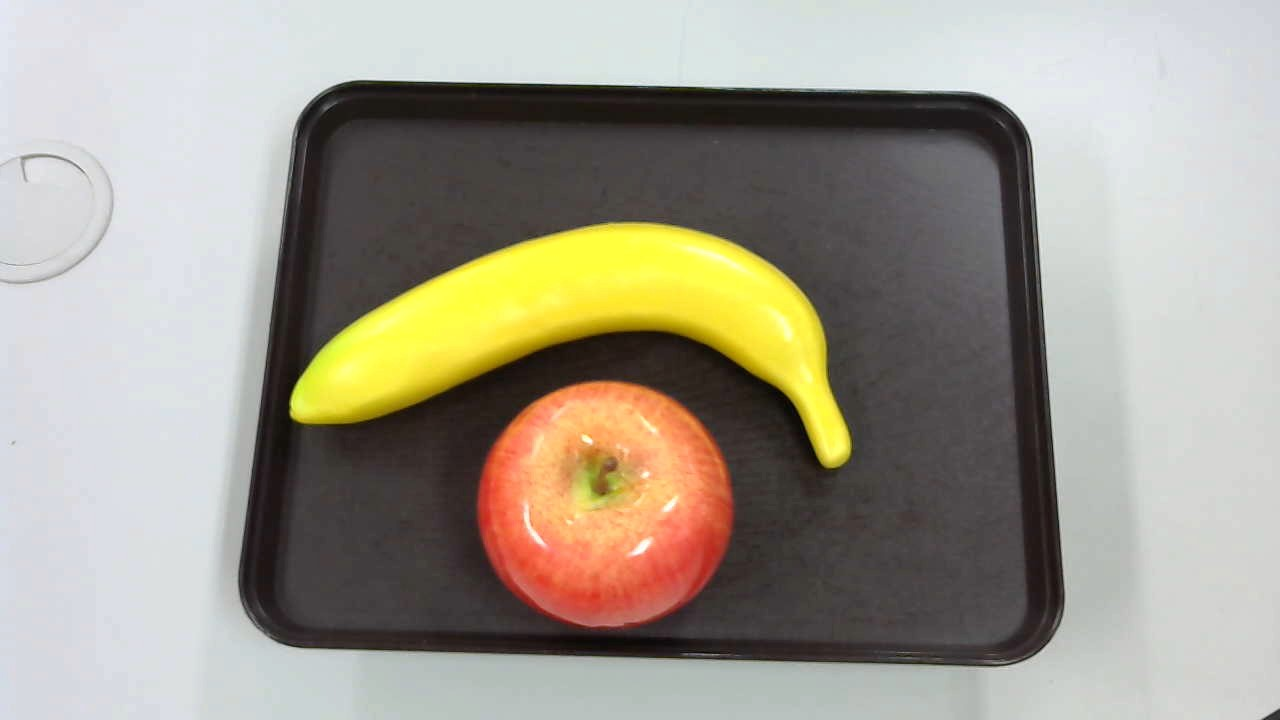banana: (284, 220, 873, 472)
red apple: (476, 369, 737, 637)
